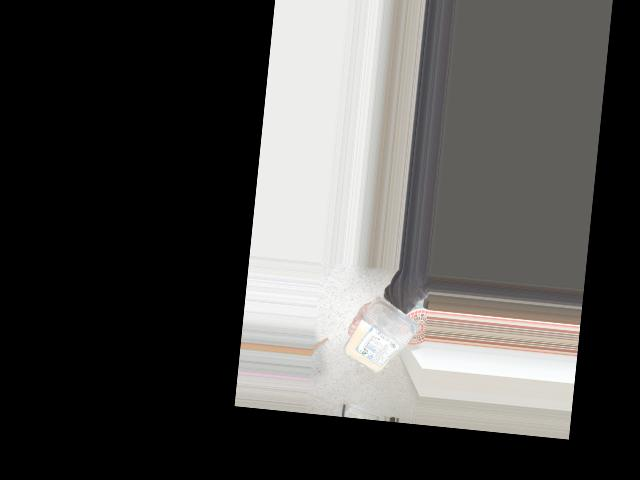cheese: (349, 299, 419, 381)
